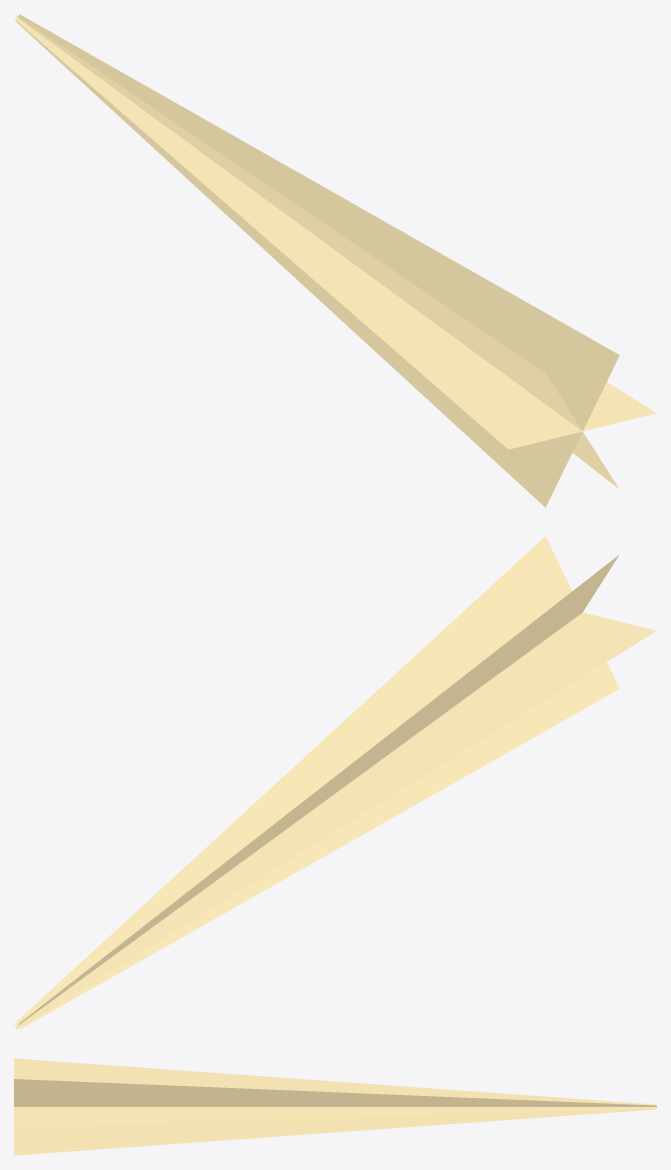
File: lighthouse-beam.glb
3 views of the same model, one above another, from view 1: azimuth 30°, elevation 25°; view 2: azimuth 150°, elevation 25°; view 3: azimuth 270°, elevation 25° (orthographic). The views are drawn at different scales.
Visible parts, largest first — view 1: LighthouseBeam; view 2: LighthouseBeam; view 3: LighthouseBeam.
Part boxes in pixels (x1,y1,x2,y2): LighthouseBeam: (14,14,656,507); LighthouseBeam: (14,536,656,1029); LighthouseBeam: (14,1058,656,1155).
Size of the model in its own units: 8.8 by 7.62 by 58.
Materials: 1 (1 with a texture image).
